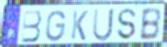B: (139, 6, 163, 41), (21, 9, 43, 44)
G: (45, 9, 67, 43)
K: (69, 10, 89, 42)
S: (117, 8, 138, 41)
U: (92, 8, 116, 43)
